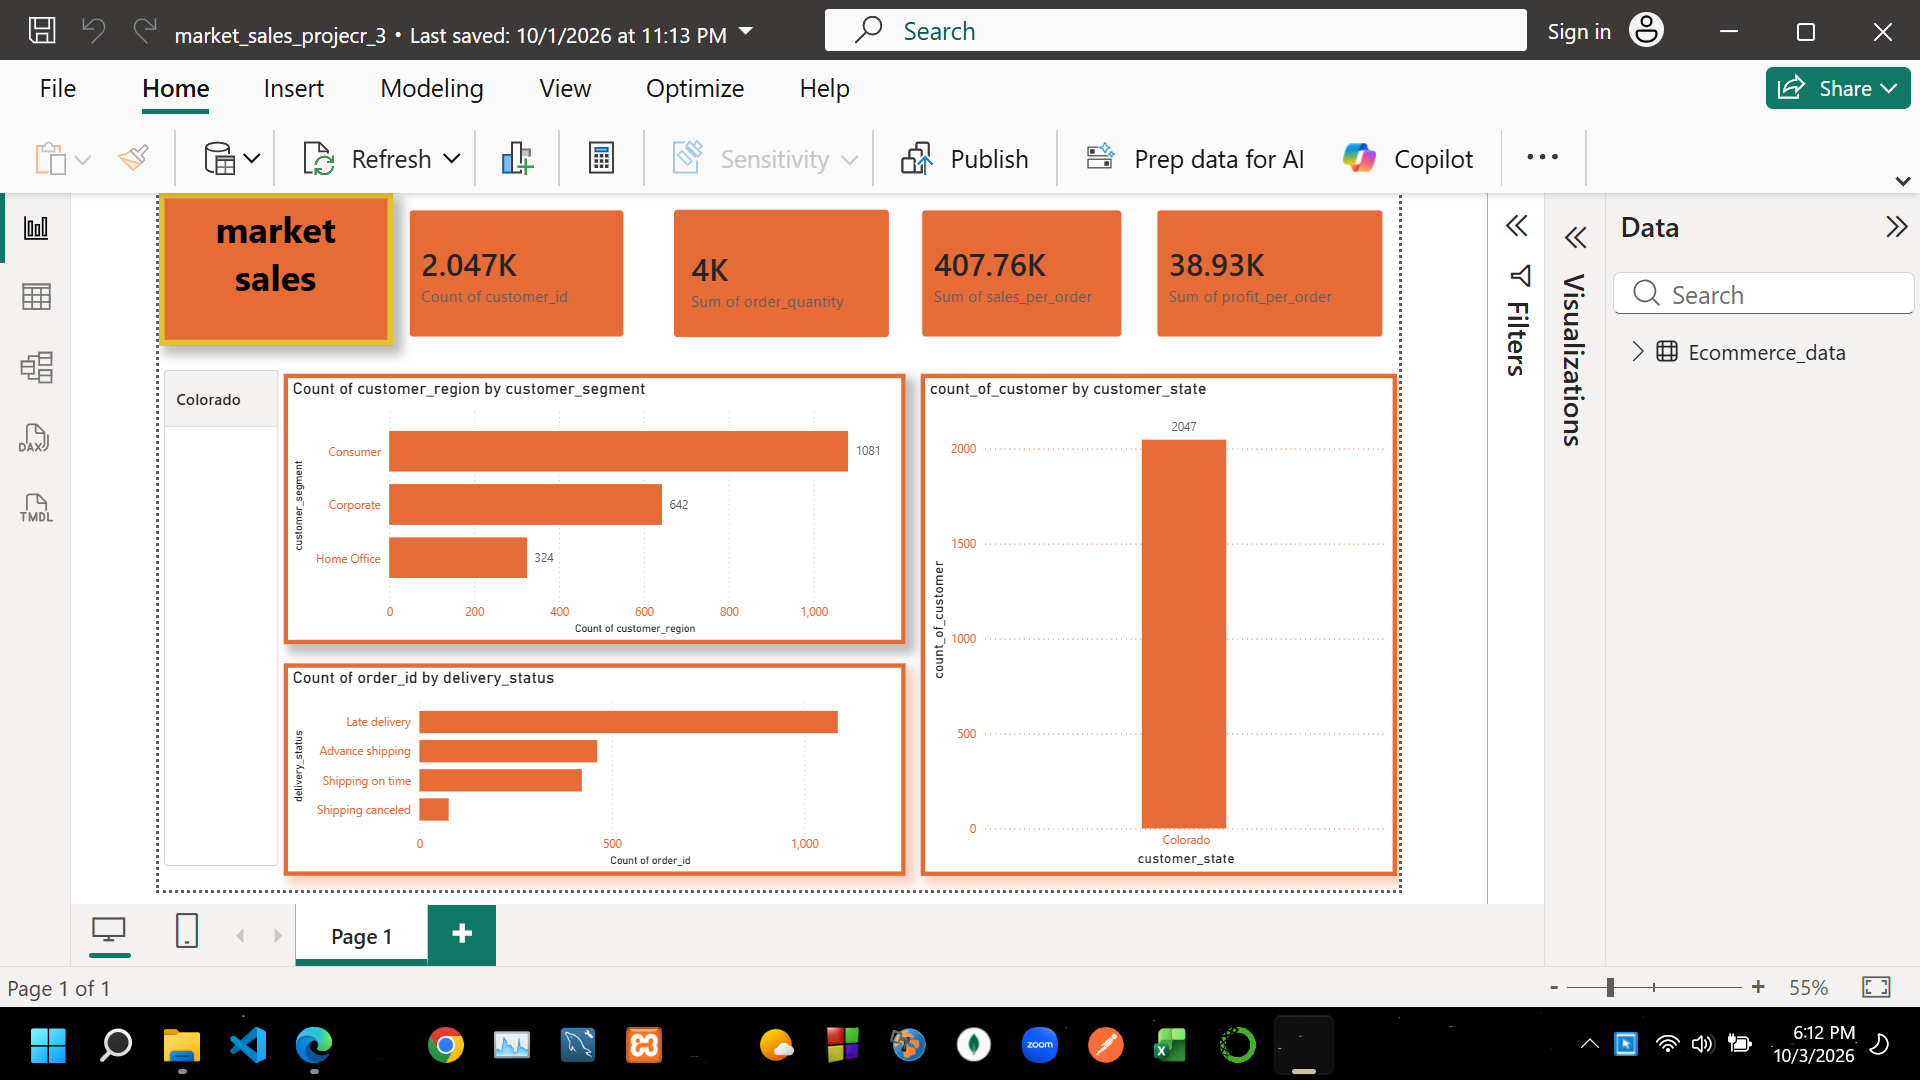

Layout of this report page (visuals, bound fields, positions):
{"tool":"powerbi","page":{"name":"Page 1","canvas":[1280,720],"ordinal":0},"visuals":[{"type":"cardVisual","fields":{"Data":["Sum(Ecommerce_data.order_quantity)"]},"box":[513.9,0,256.9,166.1],"z":1},{"type":"cardVisual","fields":{"Data":["Sum(Ecommerce_data.profit_per_order)"]},"box":[1012.2,0,268,166.1],"z":2},{"type":"cardVisual","fields":{"Data":["Sum(Ecommerce_data.sales_per_order)"]},"box":[770.8,0,241.4,166.1],"z":3},{"type":"cardVisual","fields":{"Data":["CountNonNull(Ecommerce_data.customer_id)"]},"box":[241.4,0,256.9,166.1],"z":4},{"type":"clusteredColumnChart","fields":{"Y":["Ecommerce_data.count_of_customer"],"Category":["Ecommerce_data.customer_state"]},"box":[786.3,186.1,491.7,518.3],"z":5},{"type":"clusteredBarChart","fields":{"Category":["Ecommerce_data.delivery_status"],"Y":["CountNonNull(Ecommerce_data.order_id)"]},"box":[128.5,485.1,642.3,219.3],"z":6},{"type":"clusteredBarChart","fields":{"Category":["Ecommerce_data.customer_segment"],"Y":["CountNonNull(Ecommerce_data.customer_region)"]},"box":[128,186,642,279],"z":7},{"type":"cardVisual","fields":{"Rows":["Ecommerce_data.customer_state"]},"box":[0,157.3,128.5,562.6],"z":8},{"type":"textbox","box":[0,0,241.4,157.3],"z":9}]}

Visuals, with their boxes on the page's 1280x720 design canvas (x1, y1, x2, y2). These are canvas units, not pixel positions in the 1920x1080 screenshot, which may show the page scaled, cropped or inside an application window:
cardVisual - Sum(Ecommerce_data.order_quantity): pyautogui.locateOnScreen(514, 0, 771, 166)
cardVisual - Sum(Ecommerce_data.profit_per_order): pyautogui.locateOnScreen(1012, 0, 1280, 166)
cardVisual - Sum(Ecommerce_data.sales_per_order): pyautogui.locateOnScreen(771, 0, 1012, 166)
cardVisual - CountNonNull(Ecommerce_data.customer_id): pyautogui.locateOnScreen(241, 0, 498, 166)
clusteredColumnChart - Ecommerce_data.count_of_customer x Ecommerce_data.customer_state: pyautogui.locateOnScreen(786, 186, 1278, 704)
clusteredBarChart - Ecommerce_data.delivery_status x CountNonNull(Ecommerce_data.order_id): pyautogui.locateOnScreen(128, 485, 771, 704)
clusteredBarChart - Ecommerce_data.customer_segment x CountNonNull(Ecommerce_data.customer_region): pyautogui.locateOnScreen(128, 186, 770, 465)
cardVisual - Ecommerce_data.customer_state: pyautogui.locateOnScreen(0, 157, 128, 720)
textbox: pyautogui.locateOnScreen(0, 0, 241, 157)
